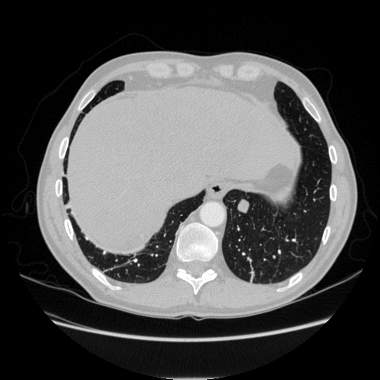nodule: (237, 200, 249, 212)
